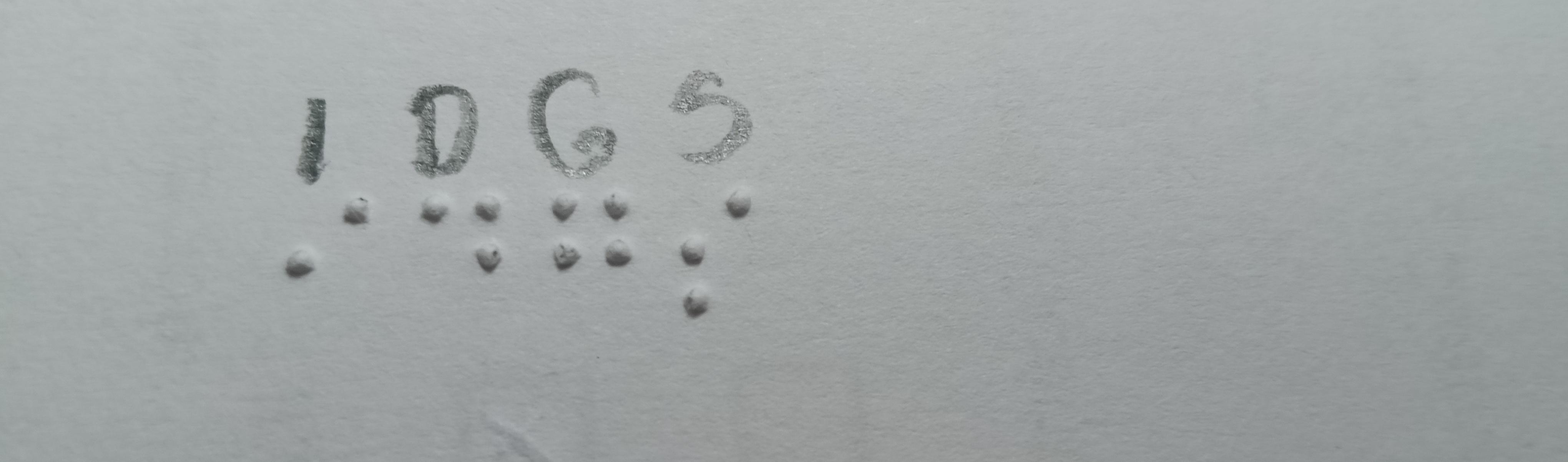d: (402, 182, 528, 292)
g: (544, 179, 649, 286)
i: (263, 184, 380, 290)
s: (655, 179, 757, 326)
